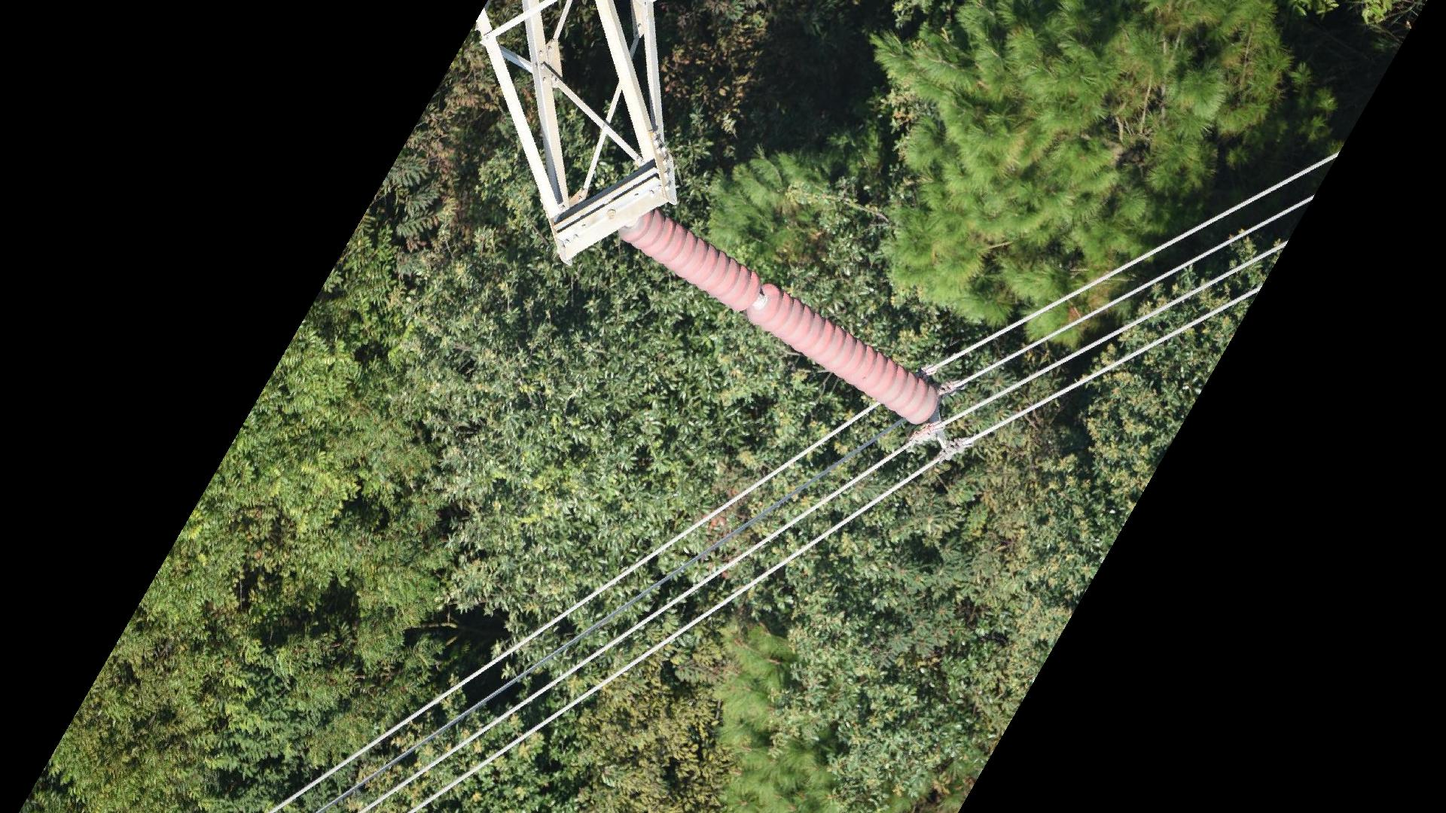insulator: (613, 206, 942, 428)
insulator_stringdrop: (732, 270, 781, 328)
